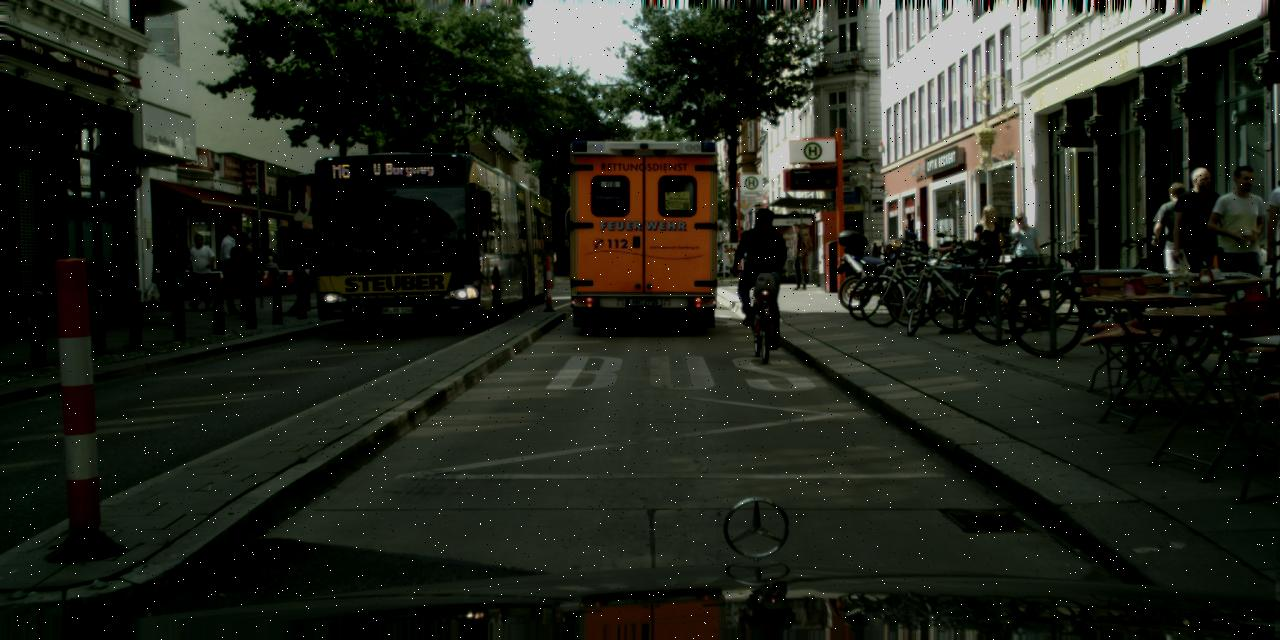ped: (1212, 166, 1277, 325), (1173, 167, 1235, 317), (1150, 183, 1205, 318), (737, 207, 788, 333), (971, 205, 1009, 298), (210, 222, 248, 314), (1008, 210, 1044, 302), (154, 225, 188, 312), (286, 235, 318, 316), (230, 232, 262, 310), (184, 234, 215, 310), (785, 222, 813, 289), (236, 234, 262, 297), (552, 236, 568, 276)
